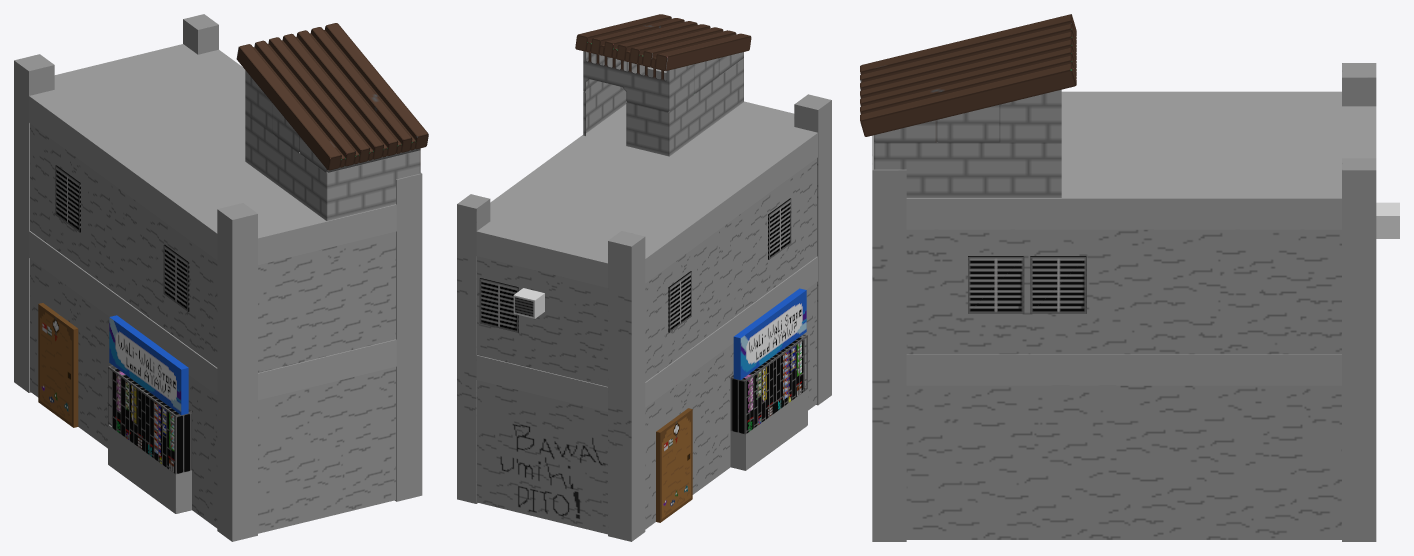
The model's file is House-1.obj.
3 renders of one model, left to right at view 1: azimuth 30°, elevation 25°; view 2: azimuth 150°, elevation 25°; view 3: azimuth 270°, elevation 25°, orthographic. The views are drawn at different scales.
Visible parts, largest first — view 1: cube, foundation, 2nd, Ground, roof, Tindahan, gshark, tinda, cement; view 2: foundation, cube, 2nd, Ground, roof, Tindahan, cement, tinda, gshark, aircon; view 3: Ground, foundation, 2nd, cube, roof, cement, aircon.
Boxes of the visible parts, x1,y1,x2,y2 form: cube: (14, 14, 422, 541); foundation: (29, 44, 396, 400); 2nd: (30, 123, 395, 372); Ground: (30, 259, 395, 533); roof: (236, 23, 428, 170); Tindahan: (108, 365, 191, 513); gshark: (109, 315, 188, 415); tinda: (113, 369, 189, 473); cement: (245, 70, 272, 132); foundation: (476, 101, 817, 411); cube: (457, 52, 831, 541); 2nd: (477, 158, 816, 386); Ground: (477, 282, 816, 534); roof: (575, 14, 751, 70); Tindahan: (730, 334, 807, 470); cement: (583, 51, 694, 111); tinda: (732, 337, 804, 433); gshark: (733, 288, 806, 379); aircon: (513, 288, 544, 318); Ground: (906, 385, 1341, 539); foundation: (872, 91, 1376, 385); 2nd: (906, 229, 1341, 354); cube: (872, 63, 1376, 541); roof: (860, 14, 1076, 136); cement: (999, 89, 1061, 142); aircon: (1376, 202, 1399, 238).
Size of the model in its own units: 0.275 by 0.521 by 0.5389.
11 materials, 11 textured.
